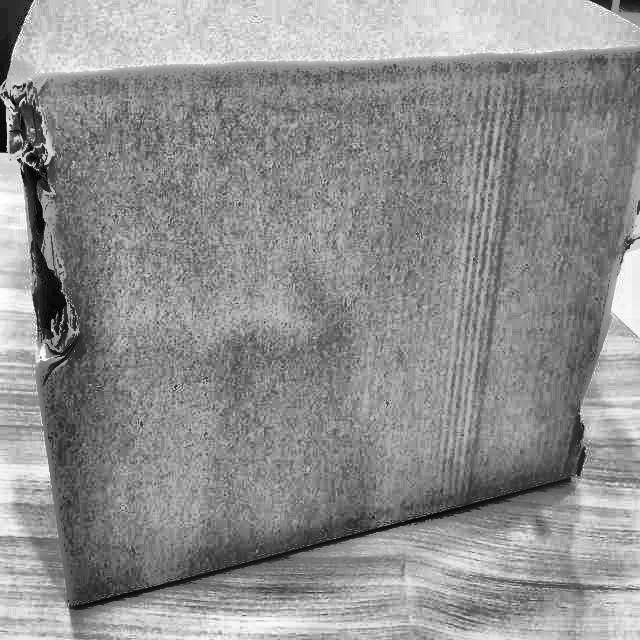box: (0, 0, 639, 626)
hole: (5, 83, 82, 359)
